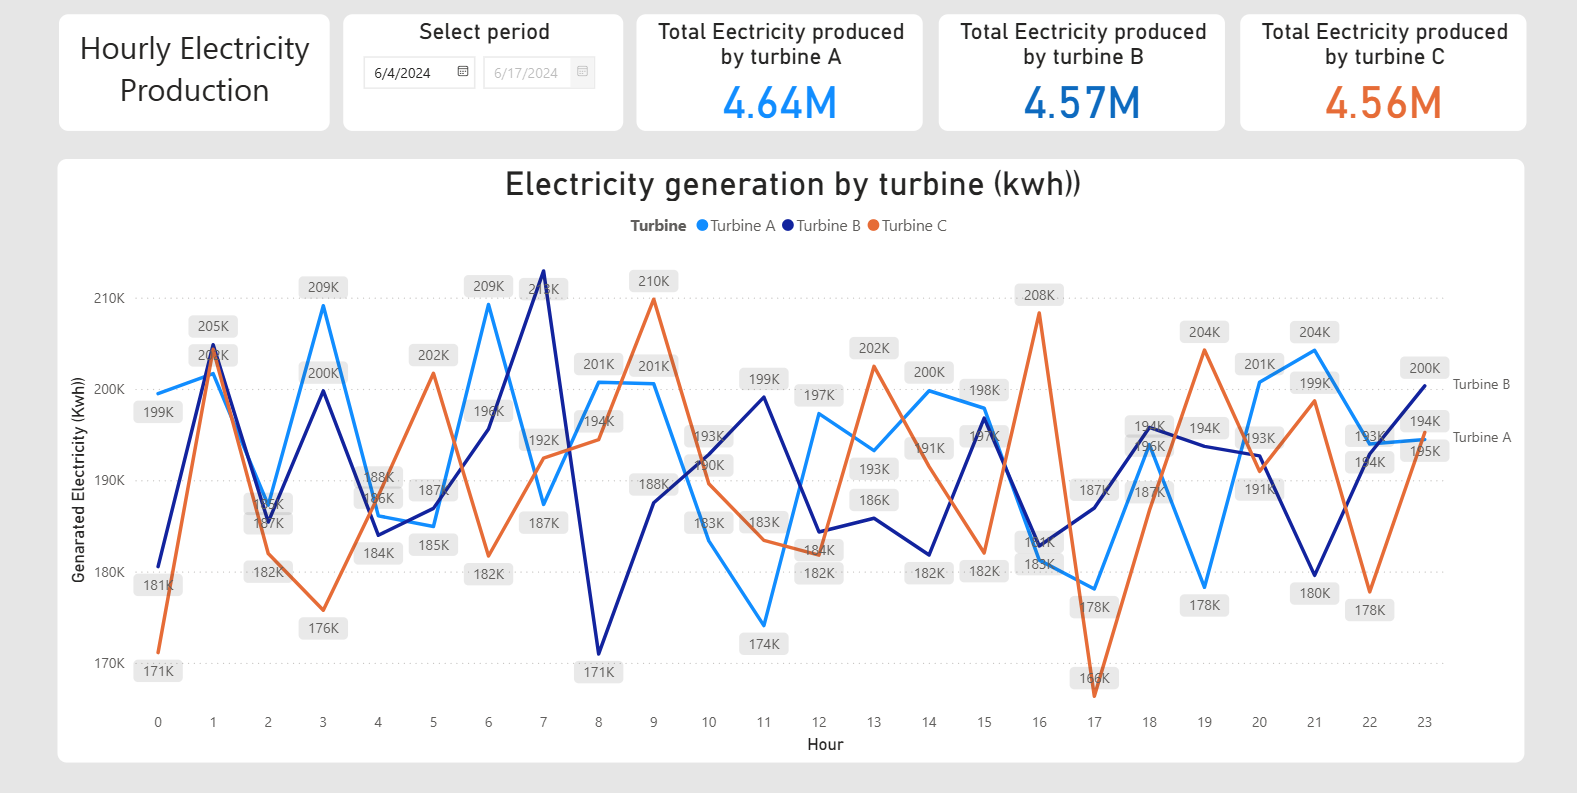

Layout of this report page (visuals, bound fields, positions):
{"tool":"powerbi","page":{"name":"Hourly Ellectricit Production","canvas":[1280,720],"ordinal":1},"visuals":[{"type":"lineChart","title":"Electricity generation by turbine (kwh))","fields":{"Category":["dim_time.hour_of_day"],"Y":["Sum(fact_wind_power_production.energy_produced)"],"Series":["dim_turbine.turbine_name"]},"box":[11.4,144,1257.8,517.7],"z":0},{"type":"card","title":"Total Eectricity produced by turbine A","fields":{"Values":["Sum(fact_wind_power_production.energy_produced)"]},"box":[507.7,20,245.3,99.8],"z":1000},{"type":"card","title":"Total Eectricity produced by turbine B","fields":{"Values":["Sum(fact_wind_power_production.energy_produced)"]},"box":[767.2,20,245.3,99.8],"z":2000},{"type":"card","title":"Total Eectricity produced by turbine C","fields":{"Values":["Sum(fact_wind_power_production.energy_produced)"]},"box":[1025.3,20,245.3,99.8],"z":3000},{"type":"slicer","title":"Select period","fields":{"Values":["fact_wind_power_production.date_id"]},"box":[256.7,20,239.6,99.8],"z":4000},{"type":"textbox","box":[12.8,20,232.4,99.8],"z":5000}]}

Visuals, with their boxes on the page's 1280x720 design canvas (x1, y1, x2, y2). These are canvas units, not pixel positions in the 1577x793 screenshot, which may show the page scaled, cropped or inside an application window:
"Electricity generation by turbine (kwh))" lineChart: <region>11, 144, 1269, 662</region>
"Total Eectricity produced by turbine A" card: <region>508, 20, 753, 120</region>
"Total Eectricity produced by turbine B" card: <region>767, 20, 1012, 120</region>
"Total Eectricity produced by turbine C" card: <region>1025, 20, 1271, 120</region>
"Select period" slicer: <region>257, 20, 496, 120</region>
textbox: <region>13, 20, 245, 120</region>
